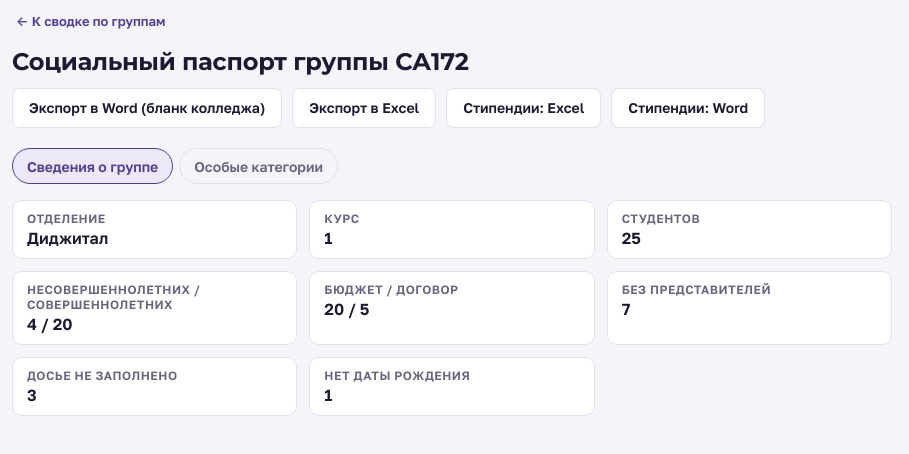
Test case: PassportPage — паспорт группы › без ключа шифрования категории в паспорте группы — прочерки с пояснением
Step 1. Click the tab "Особые категории" → (259, 166), box 179,148 -> 338,184
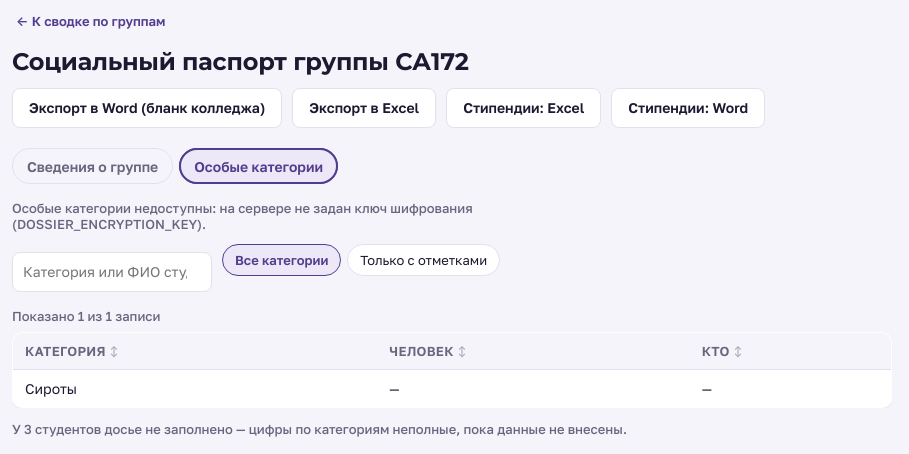
Check: the text "DOSSIER_ENCRYPTION_KEY" is shown, box 12,200 -> 473,232
